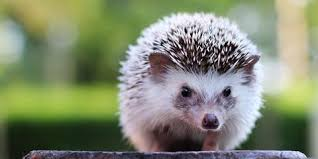hedgehog: (115, 11, 268, 153)
